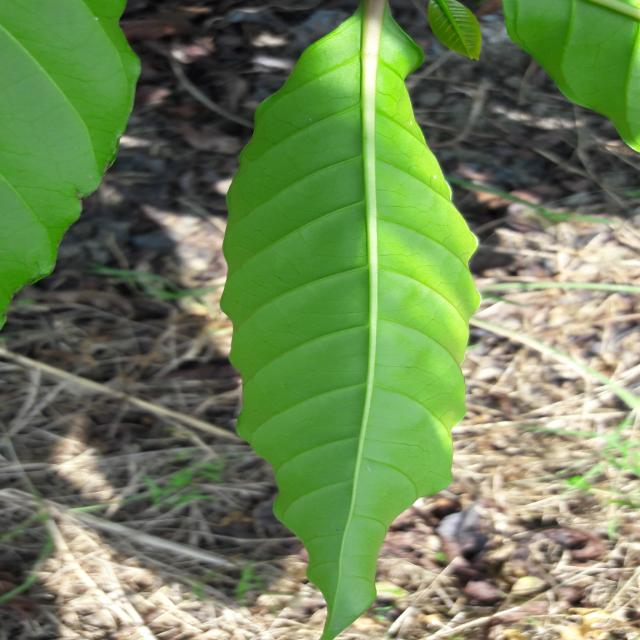Sanas: (219, 11, 481, 640)
